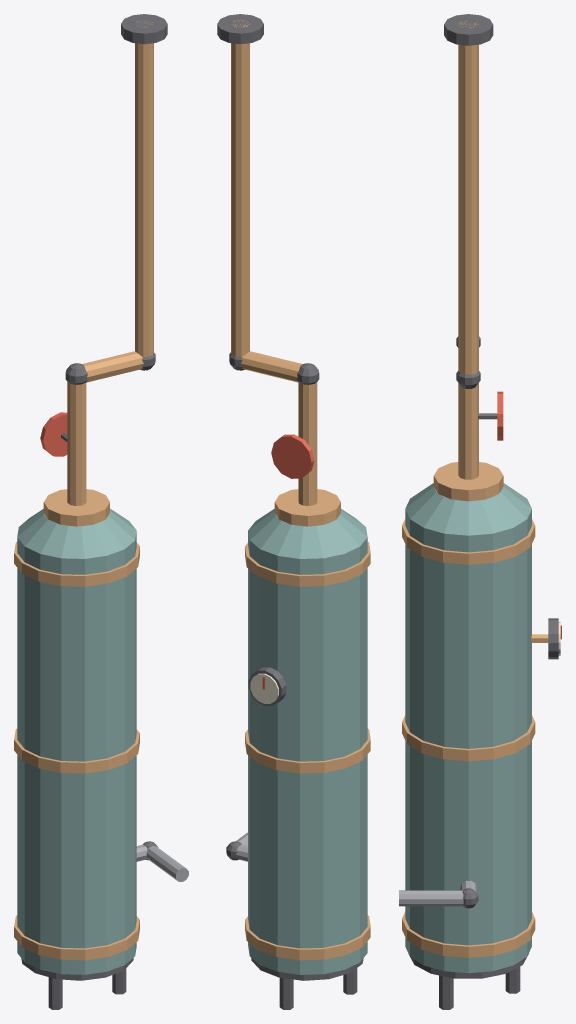
The model's file is boiler.glb.
3 renders of one model, left to right at view 1: azimuth 30°, elevation 25°; view 2: azimuth 150°, elevation 25°; view 3: azimuth 270°, elevation 25°, orthographic. The views are drawn at different scales.
Visible parts, largest first — view 1: Boiler; view 2: Boiler; view 3: Boiler.
Part boxes in pixels (x1,y1,x2,y2): Boiler: [14, 14, 188, 1009]; Boiler: [217, 14, 370, 1009]; Boiler: [399, 14, 561, 1009].
Bounding box in the file's own units: 0.423 × 2.7 × 0.398.
